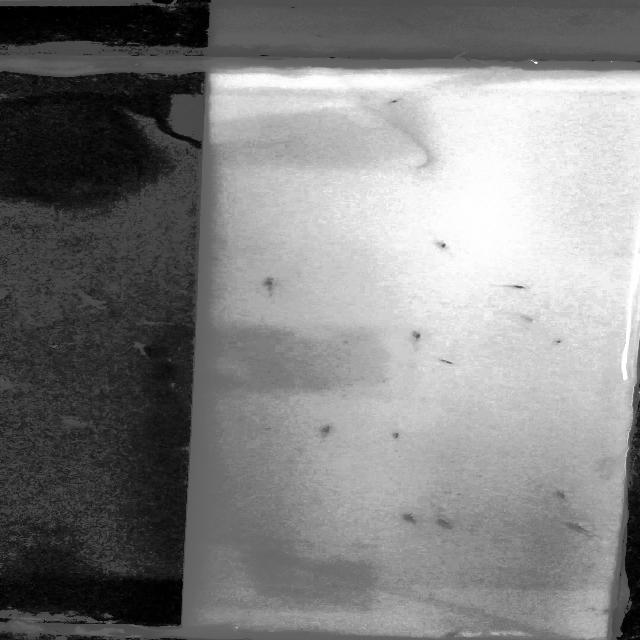shrimp: (556, 515, 602, 534), (428, 513, 462, 528), (315, 422, 346, 438), (256, 272, 280, 291), (552, 487, 578, 502), (424, 356, 456, 368), (409, 331, 424, 355), (388, 426, 408, 443), (548, 336, 575, 348), (435, 239, 456, 253), (522, 316, 546, 328), (296, 627, 324, 637), (394, 509, 413, 523), (509, 282, 528, 292), (443, 631, 461, 637)
